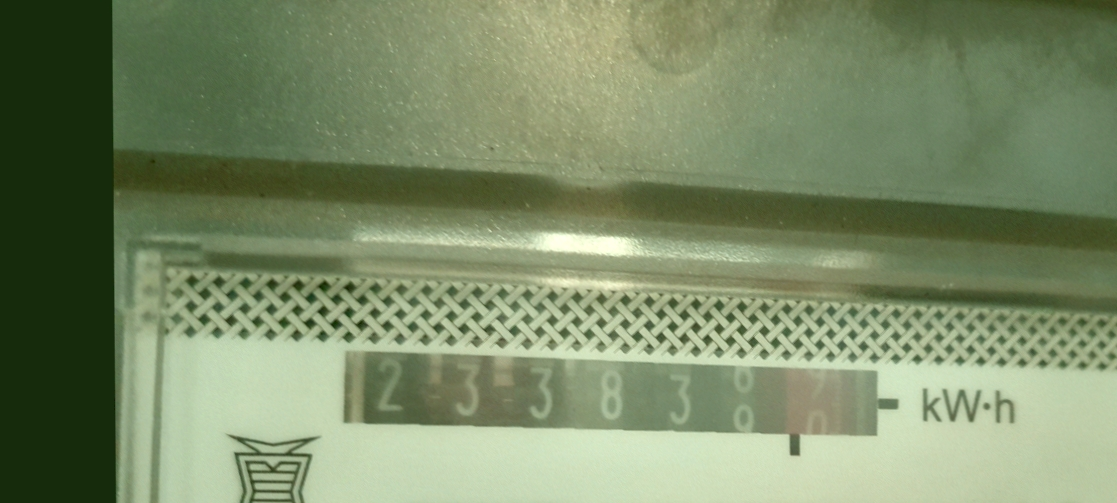0: (803, 407, 829, 441)
2: (370, 354, 409, 415)
3: (521, 360, 557, 424), (666, 369, 694, 426), (453, 359, 480, 418)
8: (594, 364, 627, 423), (731, 362, 757, 394)
9: (801, 363, 831, 402), (729, 400, 758, 437)
screen: (313, 324, 907, 485)
